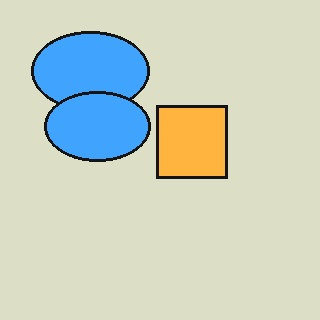circle_target: (31, 31, 149, 111), (45, 92, 150, 162)
square_target: (156, 106, 227, 178)
